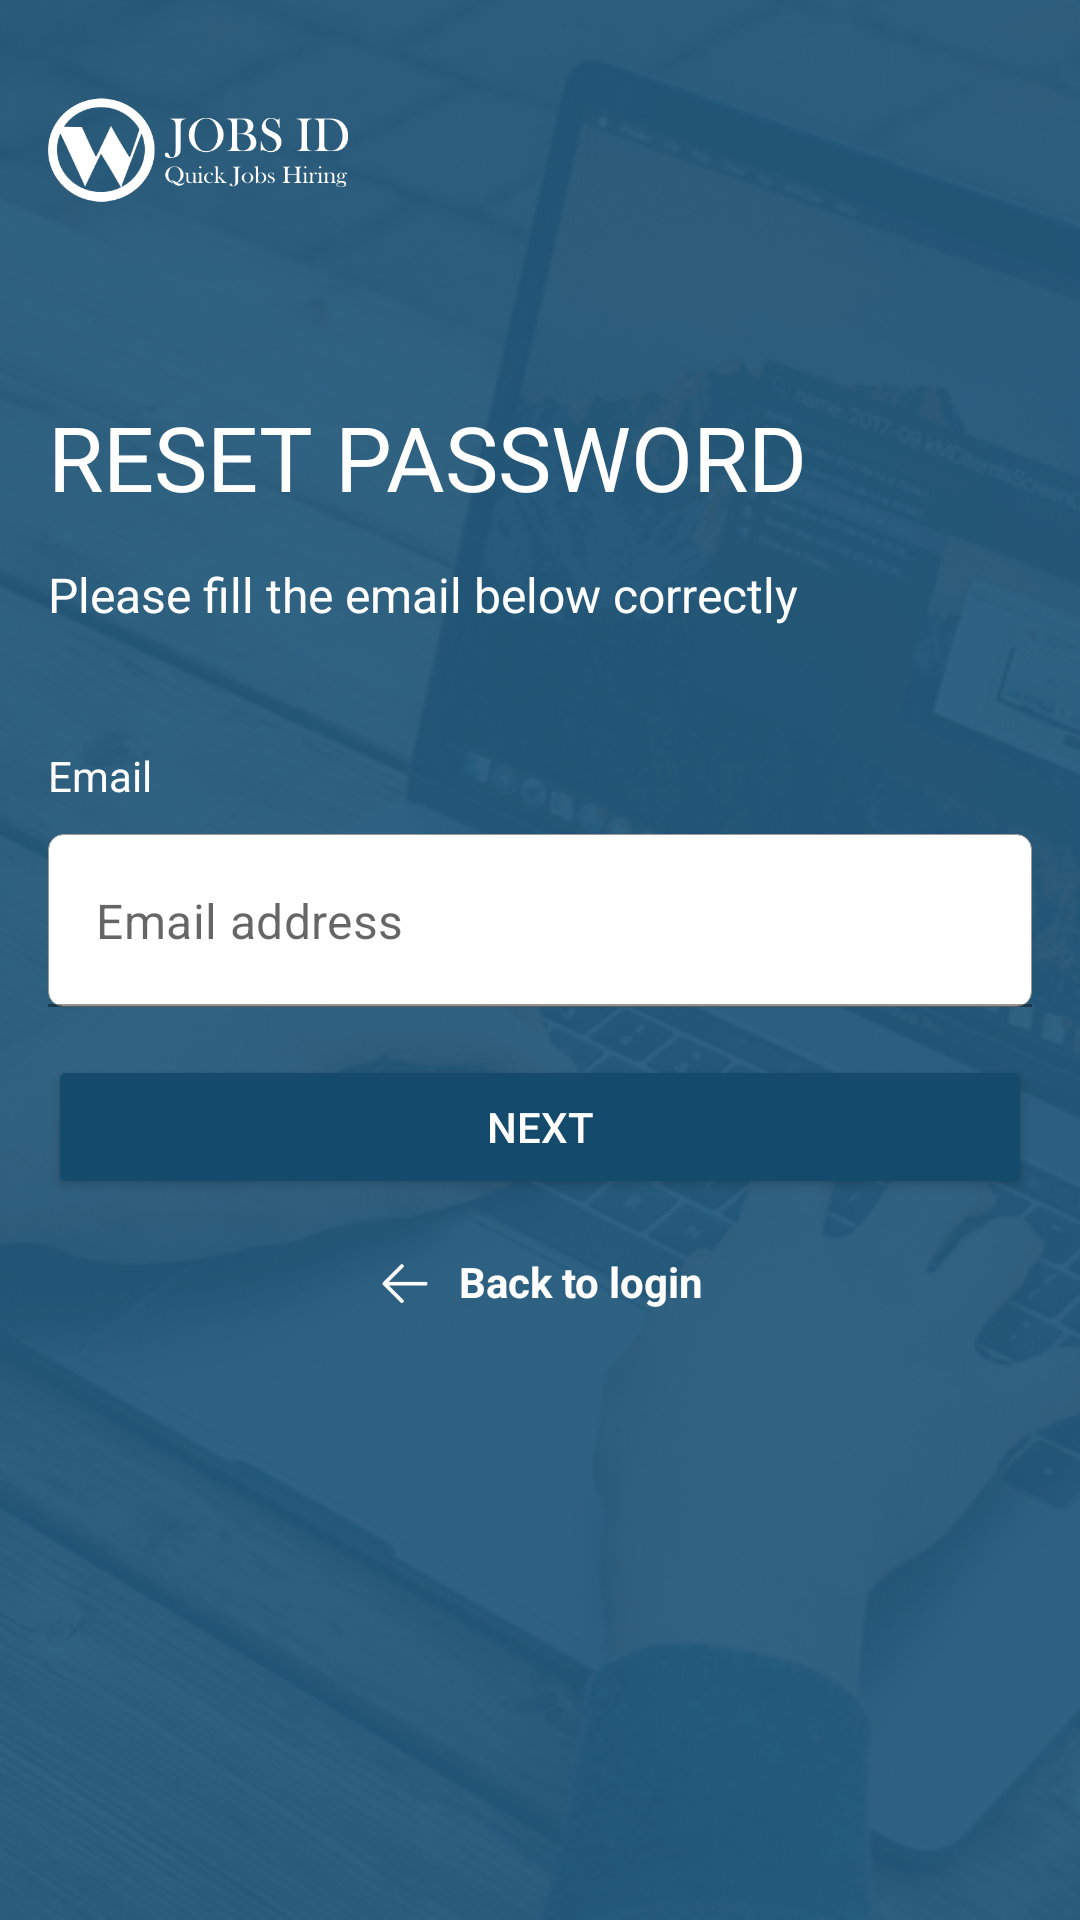

Screen size 1080 x 1920. Icon name, then its center in pixels as point (x, y):
arrow left: point (405, 1283)
